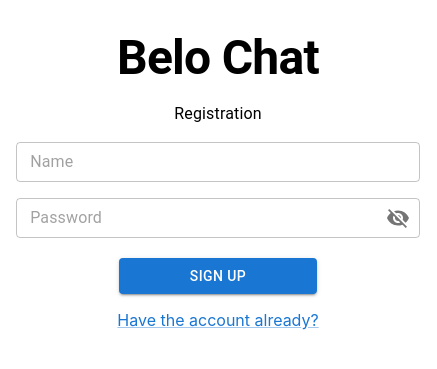
Test: Home page › Should display name too short message and then hide it after page manipulations
Type "12" into the field with placeholder "Name". click: (218, 162)
box: [16,142,420,182]
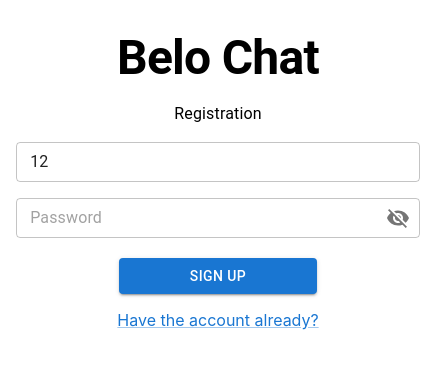
Click the button "Sign Up". click: (218, 276)
box: [118,258,317,294]
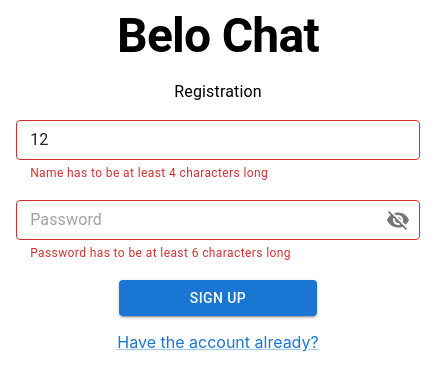
Expected: the text "Name has to be at least 4 characters long" is shown, [30,166,268,180]
Replace the text in the field with placeholder "Name" with "122". click: (218, 140)
box: [16,120,420,160]
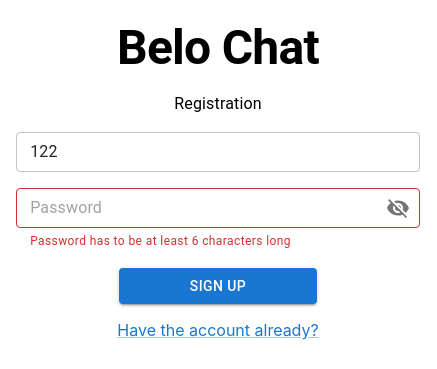
Expected: the text "Name has to be at least 4 characters long" is gone
Click the button "Sign Up". click: (218, 286)
box: [118,268,317,304]
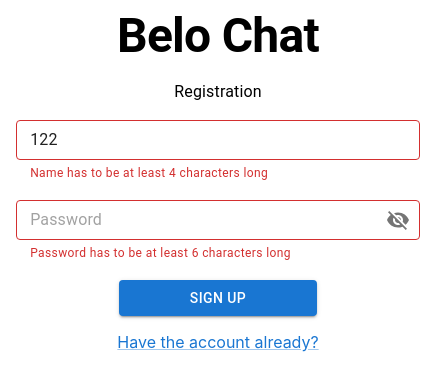
Expected: the text "Name has to be at least 4 characters long" is shown, [30,166,268,180]
Click the link "Have the account already?". click: (218, 342)
box: [117,332,319,352]
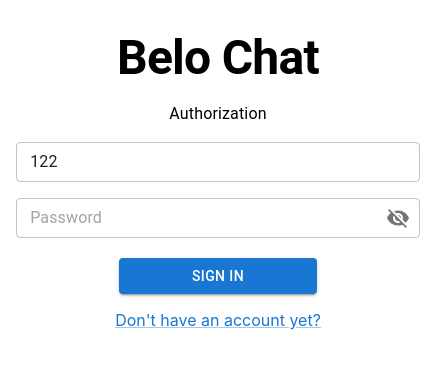
Expected: the text "Name has to be at least 4 characters long" is gone
